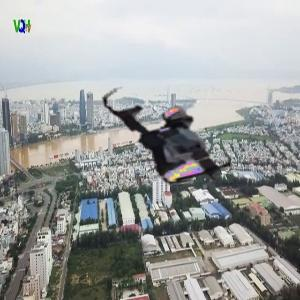drone: (103, 72, 236, 205)
